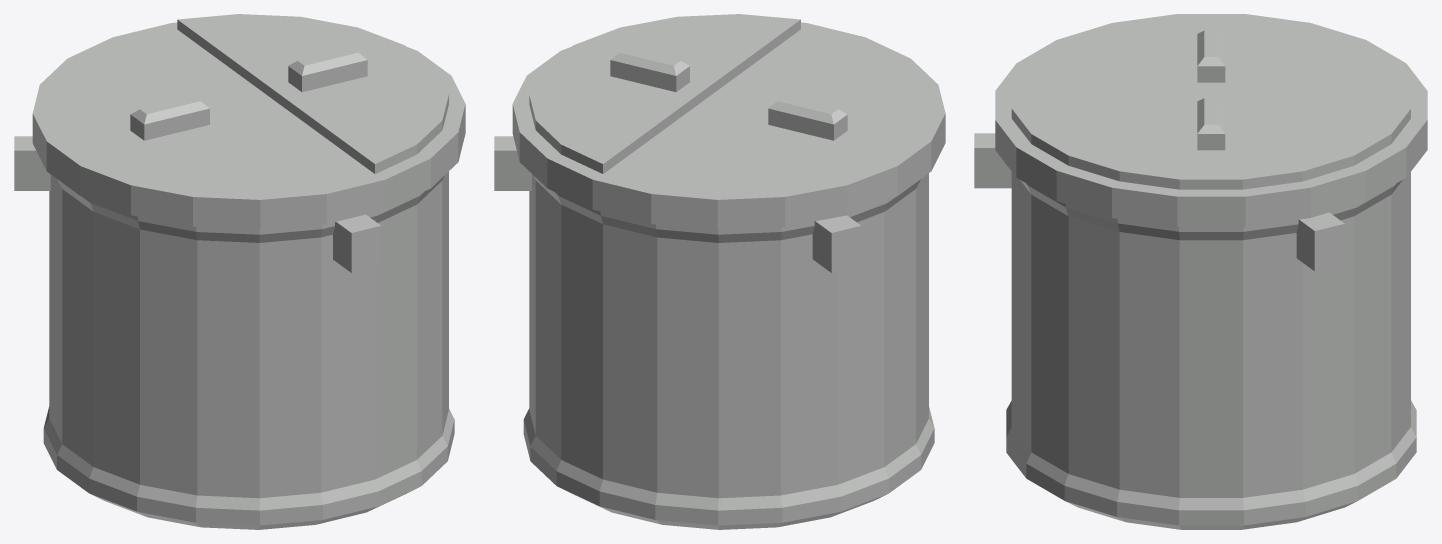
File: SM_Vendor_TahoCan_Small_02.fbx
The picture shows the model from 3 angles, left to right: view 1: azimuth 30°, elevation 25°; view 2: azimuth 150°, elevation 25°; view 3: azimuth 270°, elevation 25°; orthographic projection.
Parts seen in each view (by area): view 1: SM_Vendor_TahoCan_Small_02; view 2: SM_Vendor_TahoCan_Small_02; view 3: SM_Vendor_TahoCan_Small_02.
Boxes of the visible parts, x1,y1,x2,y2 form: SM_Vendor_TahoCan_Small_02: (14,14,465,529); SM_Vendor_TahoCan_Small_02: (494,14,945,529); SM_Vendor_TahoCan_Small_02: (974,14,1427,529).
Bounding box in the file's own units: 0.3101 × 0.3 × 0.3251.
1 material, 1 textured.
